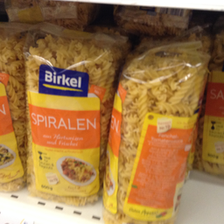pasta: (103, 38, 210, 223), (22, 26, 118, 205)
